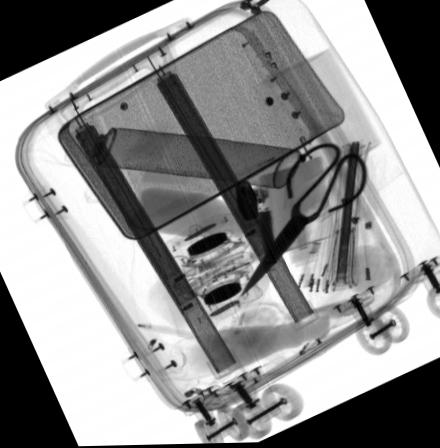Lighter: (236, 180, 256, 223)
Scissors: (240, 143, 369, 297)
Sprayer: (62, 125, 303, 190)
